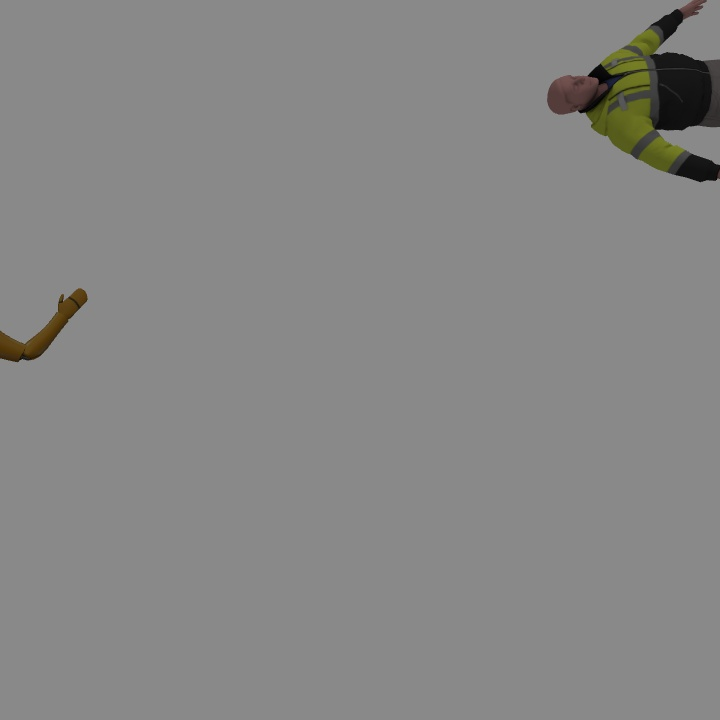victim: (552, 5, 720, 180)
